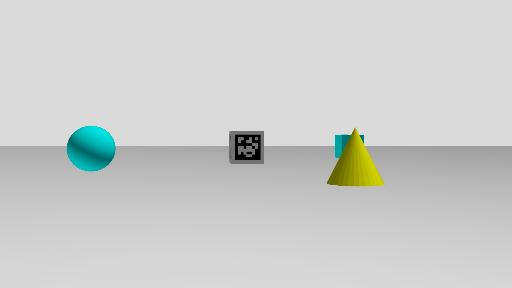yellow_cone: (325, 126, 385, 187)
